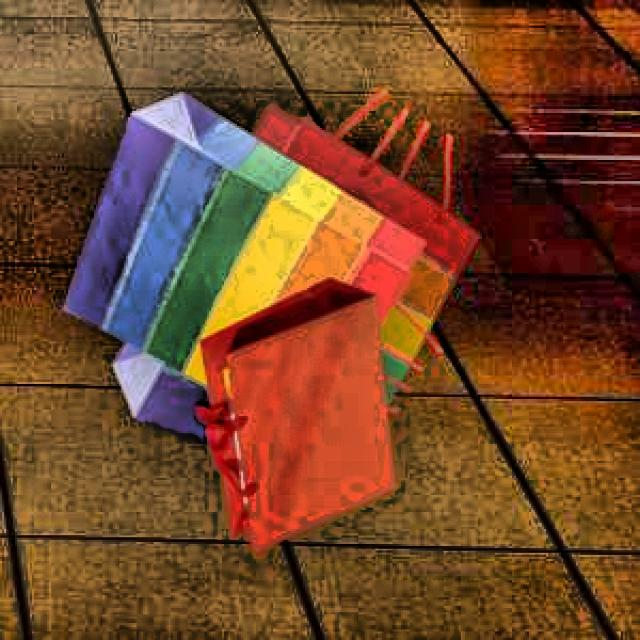Paper-bag: (49, 81, 437, 450), (202, 81, 488, 447), (192, 278, 412, 554)
